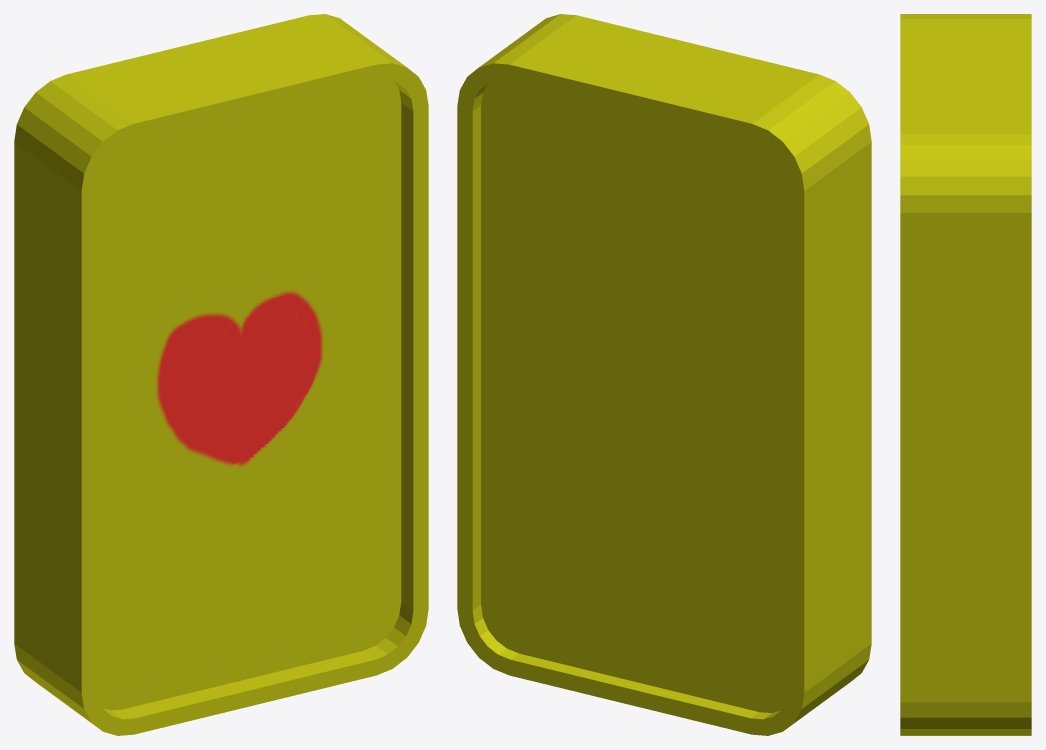
The model's file is domino.glb.
The picture shows the model from 3 angles, left to right: view 1: azimuth 30°, elevation 25°; view 2: azimuth 150°, elevation 25°; view 3: azimuth 270°, elevation 25°; orthographic projection. The views are drawn at different scales.
Parts seen in each view (by area): view 1: Cube; view 2: Cube; view 3: Cube.
Part boxes in pixels (<box>): Cube: <box>14,14,428,735</box>; Cube: <box>457,14,871,735</box>; Cube: <box>900,14,1031,735</box>.
Bounding box in the file's own units: 0.5947 × 1 × 0.2001.
1 material, 1 textured.
